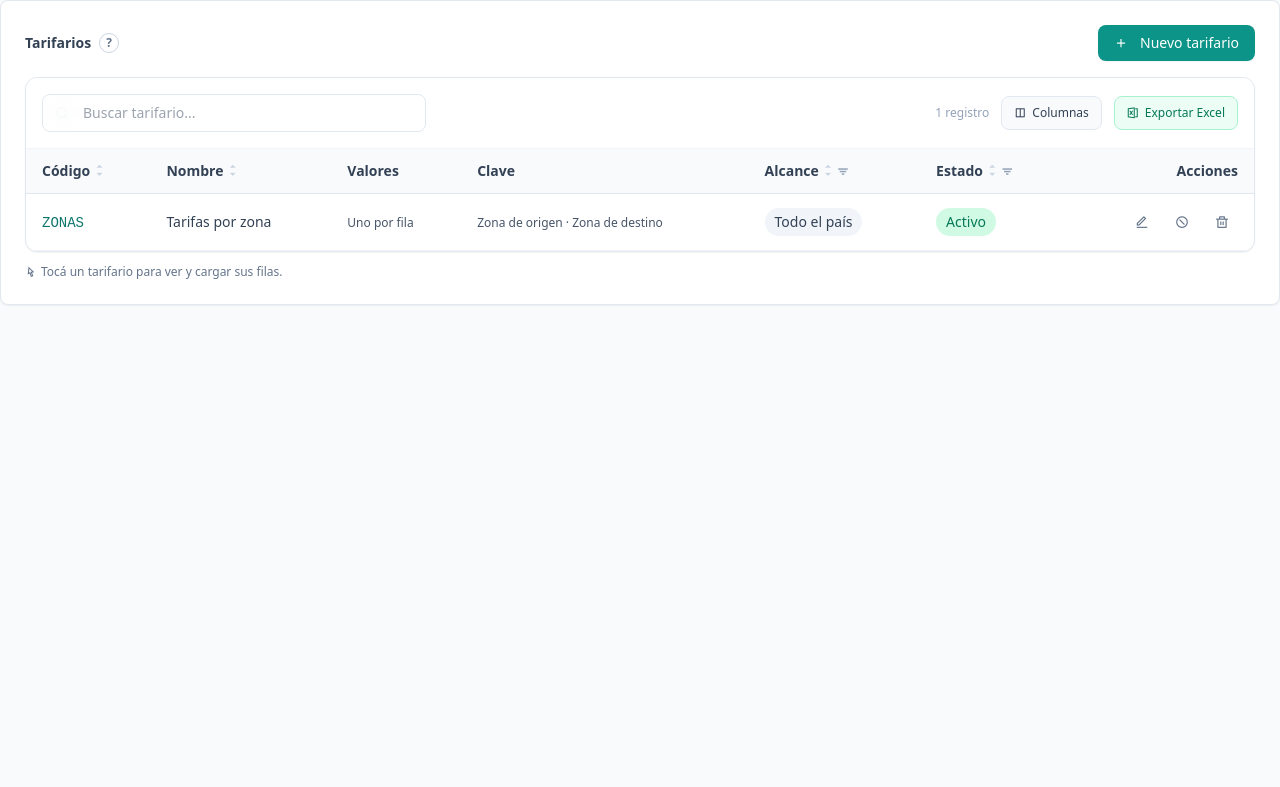
Test: TarifariosTab (caracterización) › edita una fila y puede cancelar
Click the text "ZONAS": [63, 222] box [42,214,84,230]
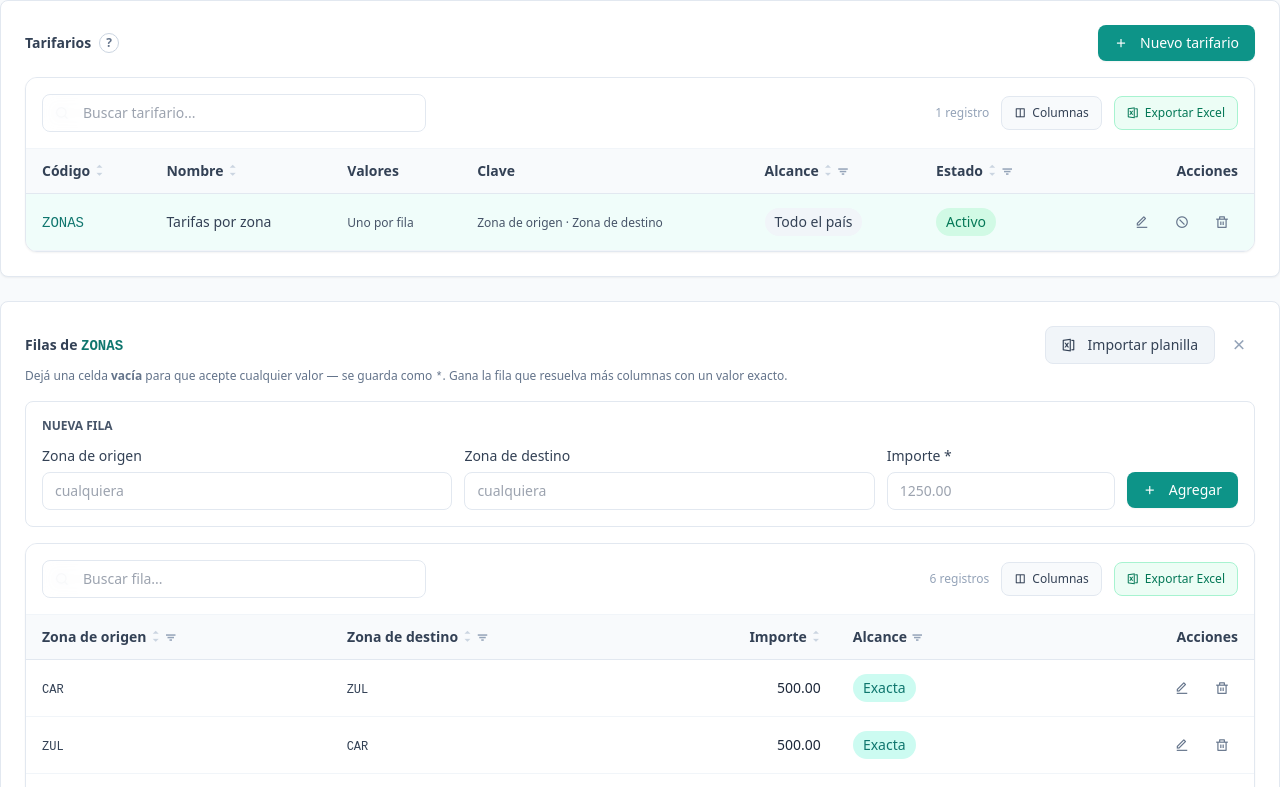
Check: the heading "Filas de ZONAS" is shown, box [25,334,123,356]
Click the 2nd button titled "Editar": [1182, 688] box [1166,672,1198,704]
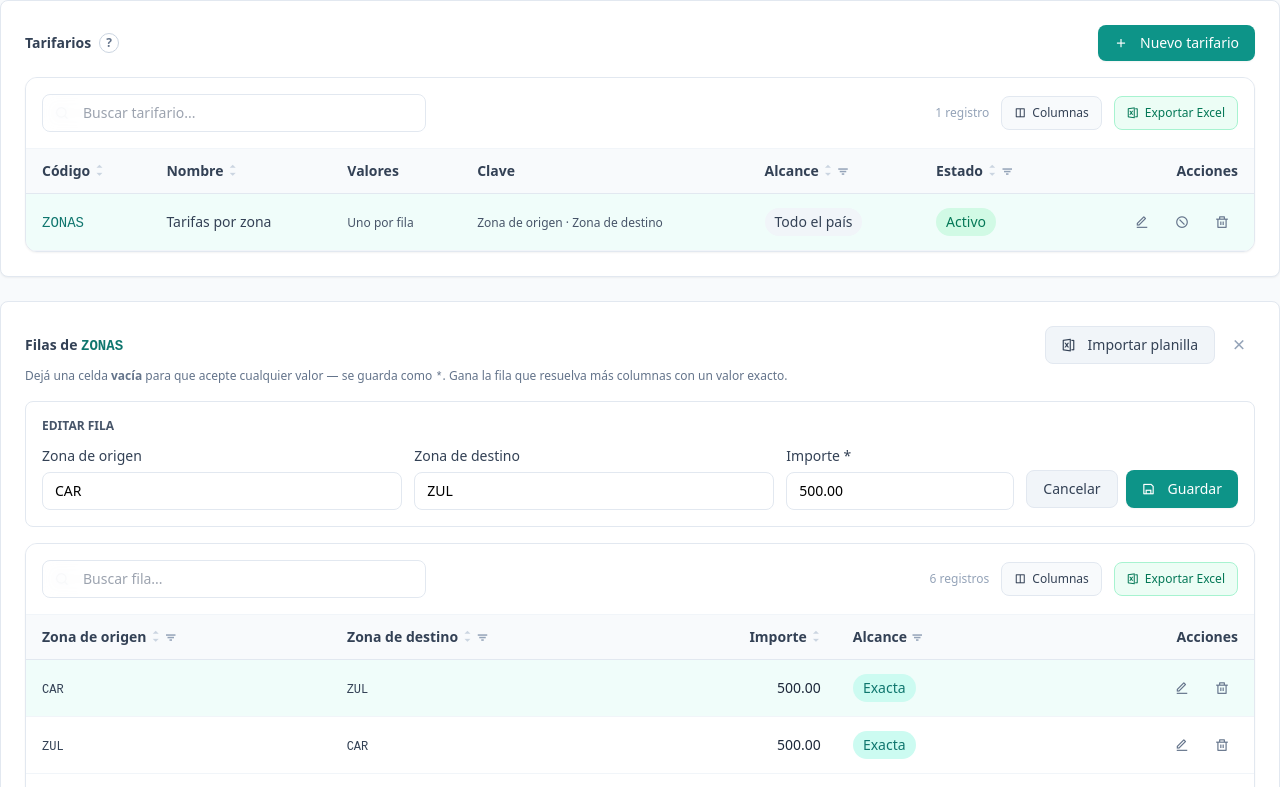
Check: the heading "Editar fila" is shown, box [42,417,114,434]
Click the button "Cancelar": [1072, 489] box [1026,470,1118,508]
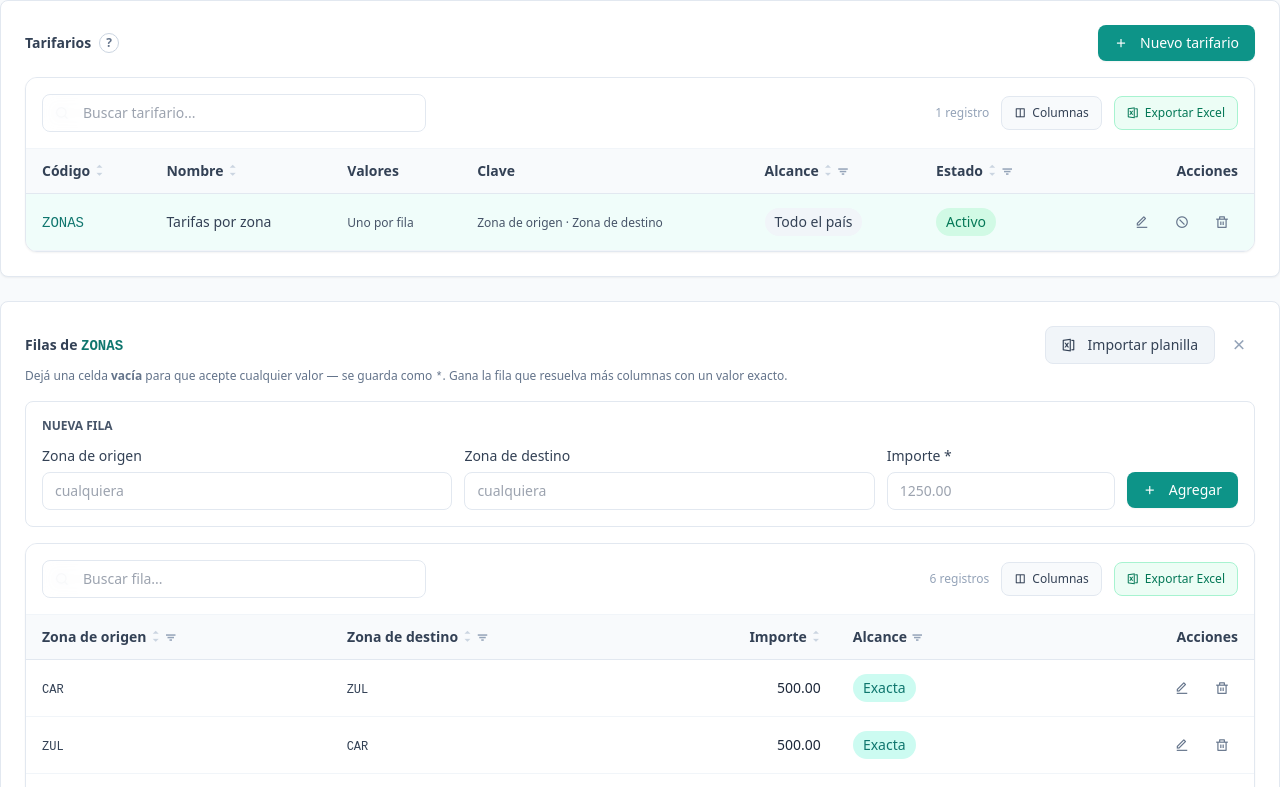
Check: the heading "Nueva fila" is shown, box [42,417,113,434]
